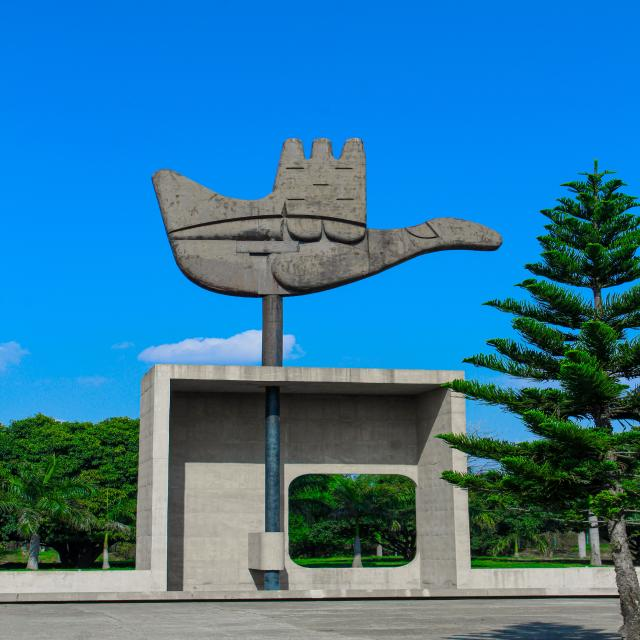Concrete: (139, 356, 476, 608), (98, 126, 506, 302)
